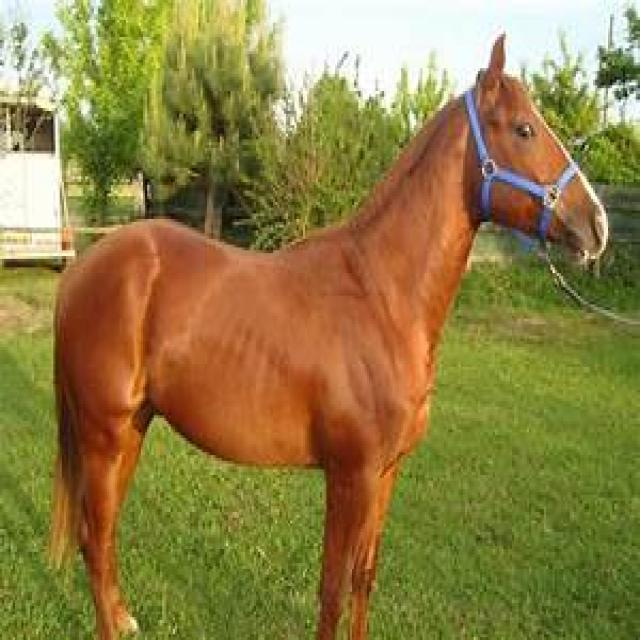horse: (45, 37, 612, 640)
